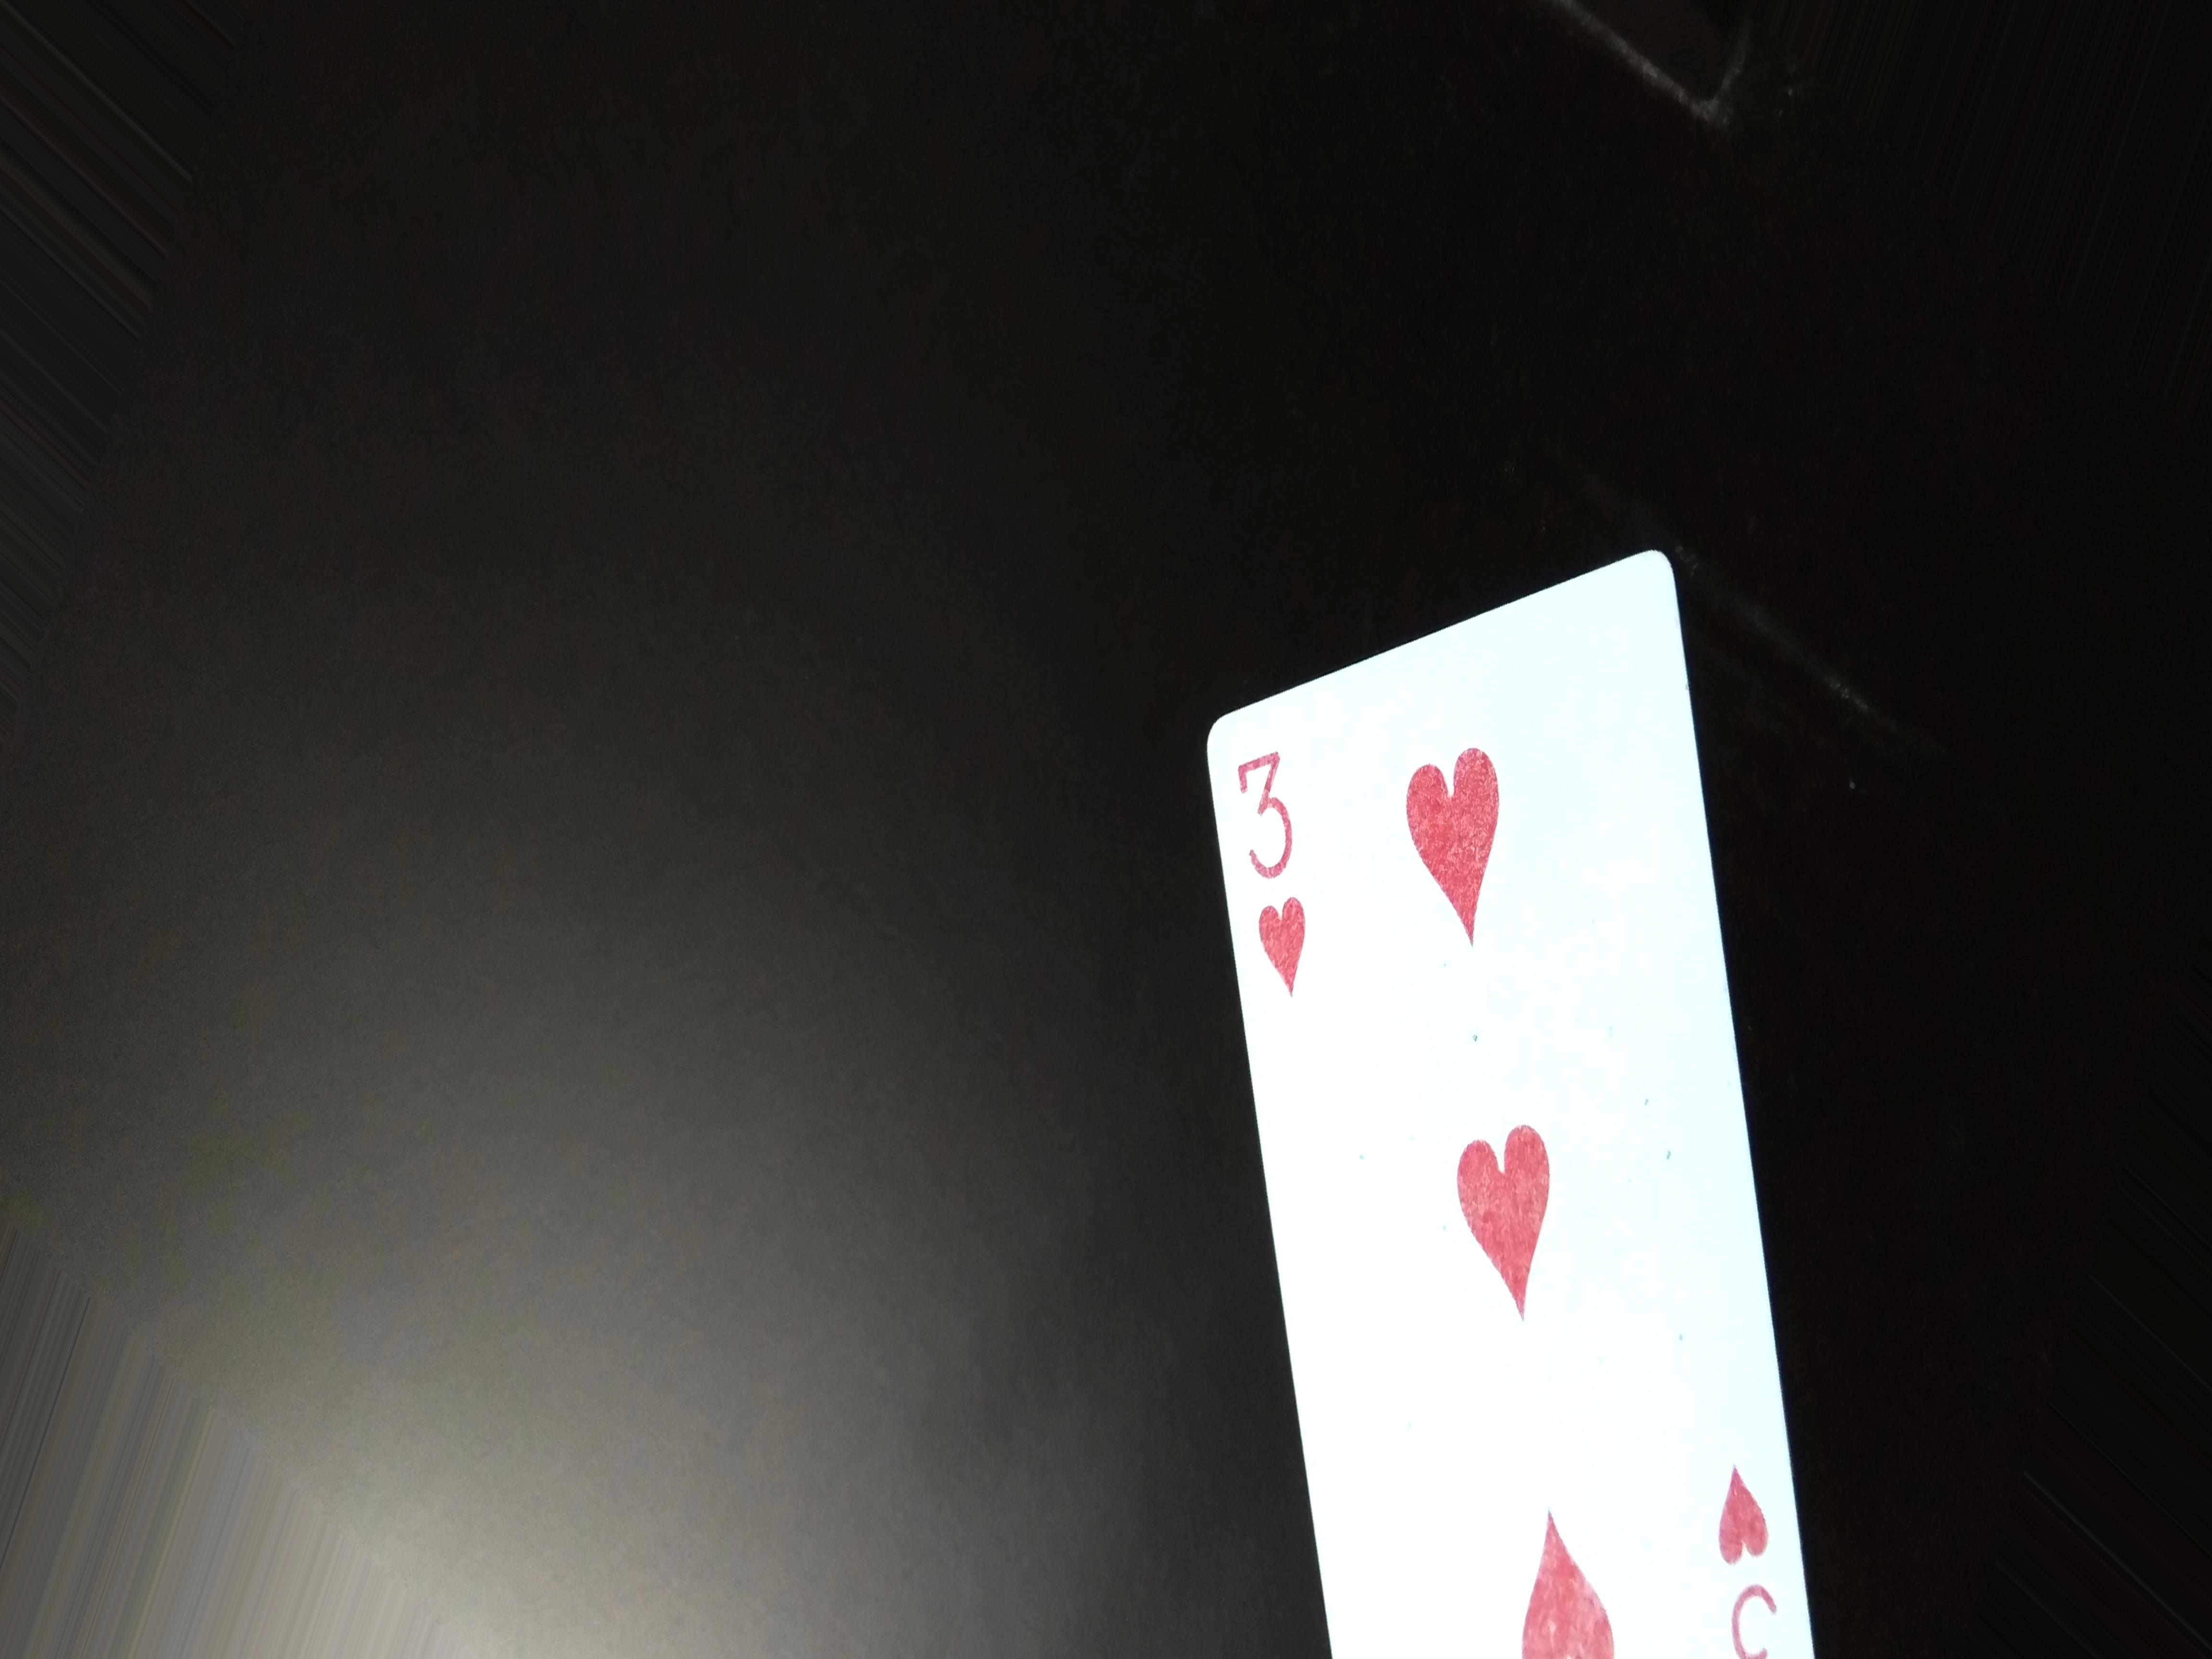3H: (1230, 723, 1329, 995)
